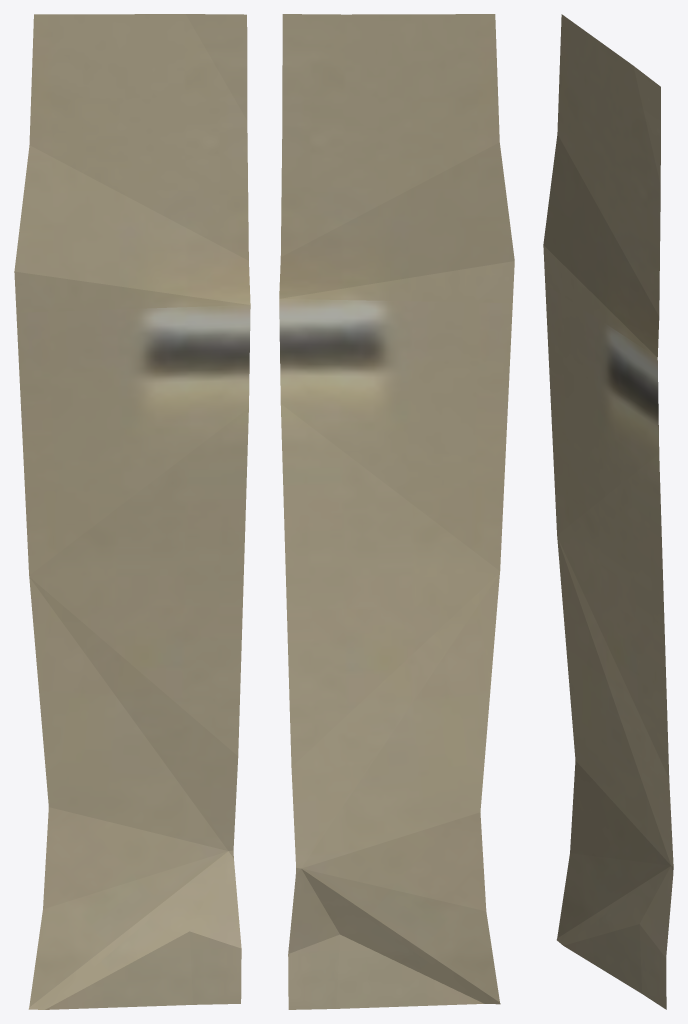
The picture shows the model from 3 angles, left to right: view 1: azimuth 30°, elevation 25°; view 2: azimuth 210°, elevation 25°; view 3: azimuth 330°, elevation 25°; orthographic projection. The views are drawn at different scales.
Size of the model in its own units: 0.1582 by 0.8373 by 0.0867.
Materials: 1 (1 with a texture image).
